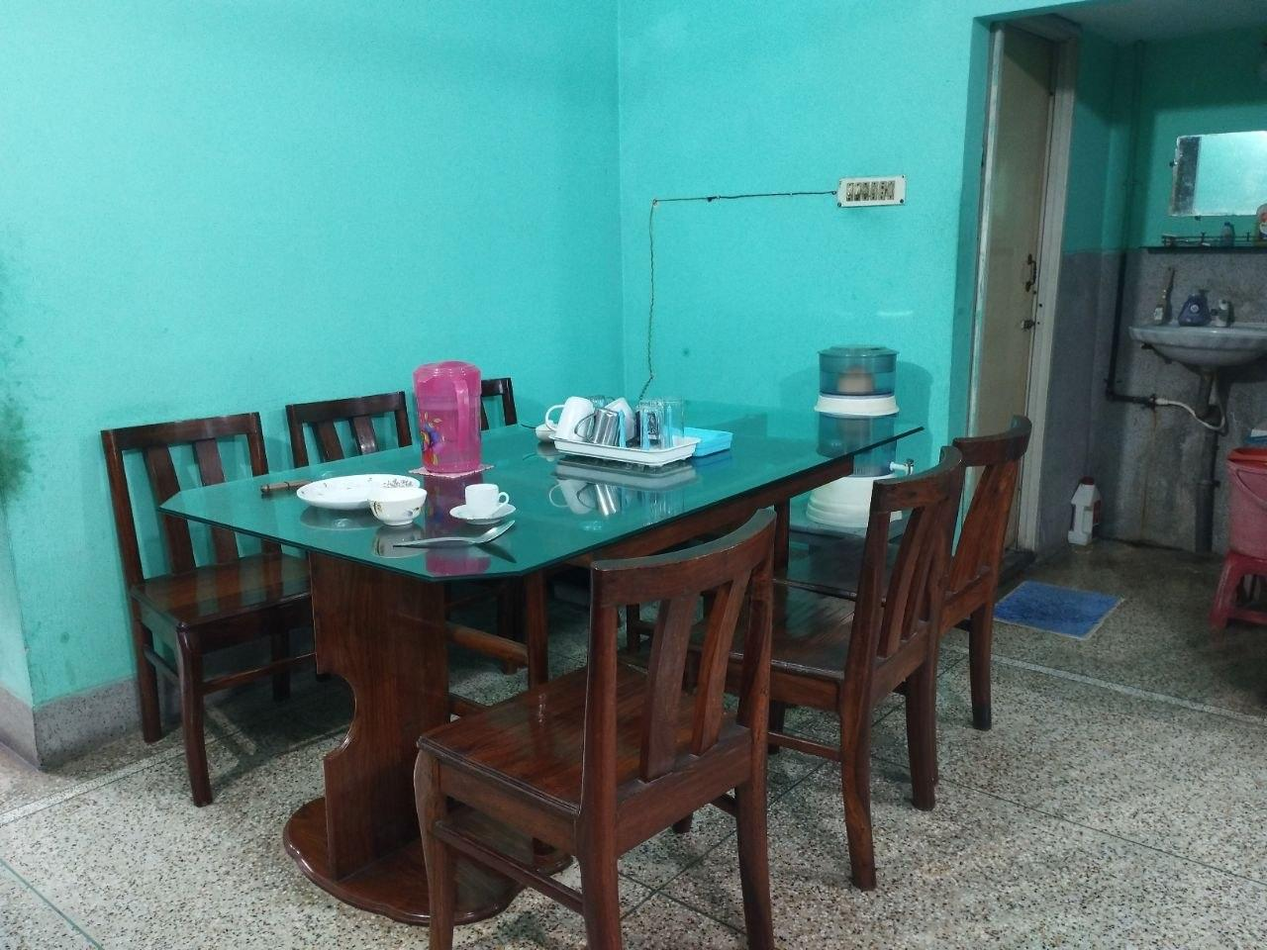Bowl: (351, 470, 436, 531)
Bucket: (831, 456, 954, 845), (1214, 434, 1267, 572)
Chair: (450, 516, 795, 928), (94, 392, 326, 806), (284, 378, 417, 469), (435, 351, 538, 426)
Cup: (445, 472, 532, 523)
Door: (954, 5, 1073, 582)
Floor Mat: (1000, 531, 1127, 664)
Glass: (560, 380, 663, 444)
Jug: (393, 326, 498, 503)
Knife: (245, 456, 315, 523)
Mirror: (1171, 131, 1267, 221)
Plate: (293, 465, 427, 523)
Spoon: (388, 519, 528, 565)
Table: (150, 429, 921, 938)
